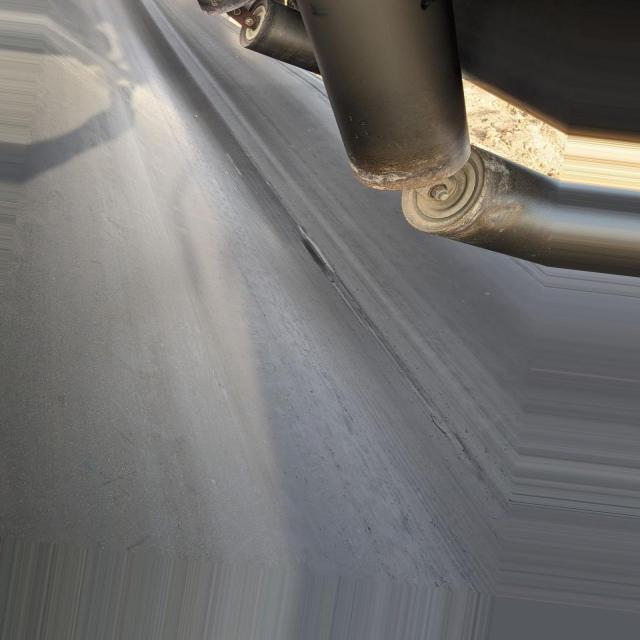Roller: (289, 0, 473, 193), (400, 148, 558, 260), (238, 0, 318, 72)
impact damage: (301, 231, 338, 283)
